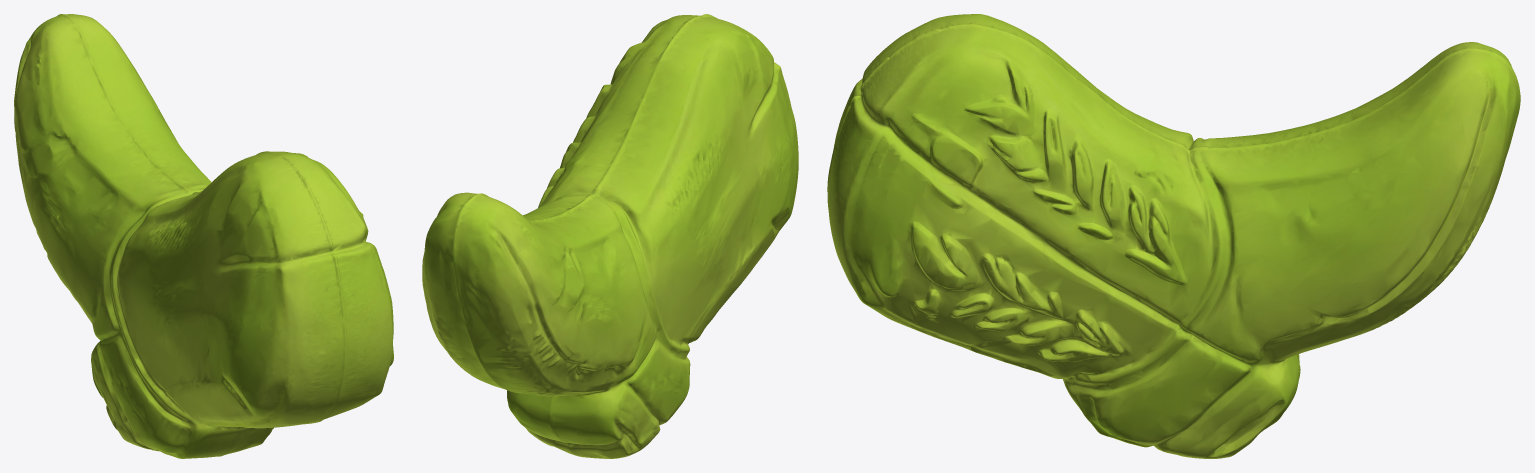
The model's file is jelly_original_lime.glb.
The picture shows the model from 3 angles, left to right: view 1: azimuth 30°, elevation 25°; view 2: azimuth 150°, elevation 25°; view 3: azimuth 270°, elevation 25°; orthographic projection. The views are drawn at different scales.
Parts seen in each view (by area): view 1: tripo_node_627b3654-1979-4b68-b160-922db7575b4b; view 2: tripo_node_627b3654-1979-4b68-b160-922db7575b4b; view 3: tripo_node_627b3654-1979-4b68-b160-922db7575b4b.
Boxes of the visible parts, x1,y1,x2,y2 form: tripo_node_627b3654-1979-4b68-b160-922db7575b4b: (14,14,393,458); tripo_node_627b3654-1979-4b68-b160-922db7575b4b: (422,14,798,458); tripo_node_627b3654-1979-4b68-b160-922db7575b4b: (827,14,1520,458).
Bounding box in the file's own units: 0.2978 × 0.657 × 0.9795.
Materials: 1 (1 with a texture image).
